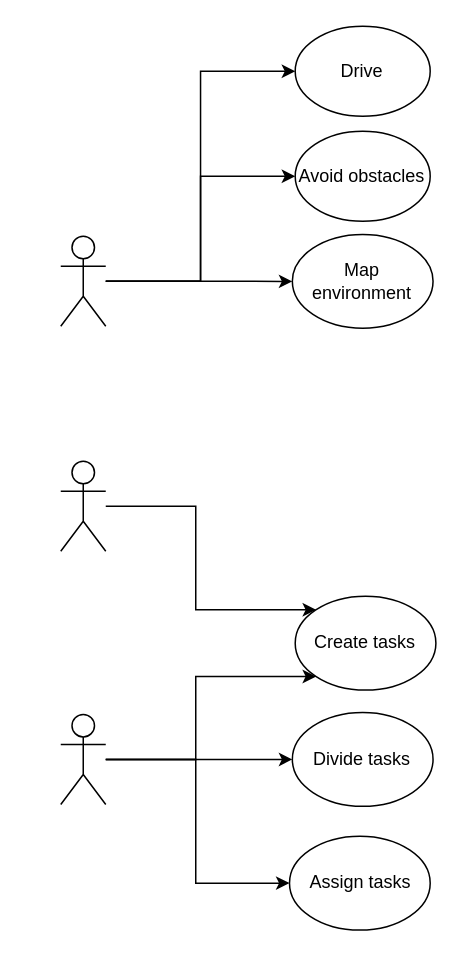
Some shapes in this 464 by 957 pixel diagram are drawn without their labels. The centre of each missing label's shape, as x and y in pixels:
Fleet manager: point (82, 758)
Robot: point (82, 280)
User: point (82, 505)
